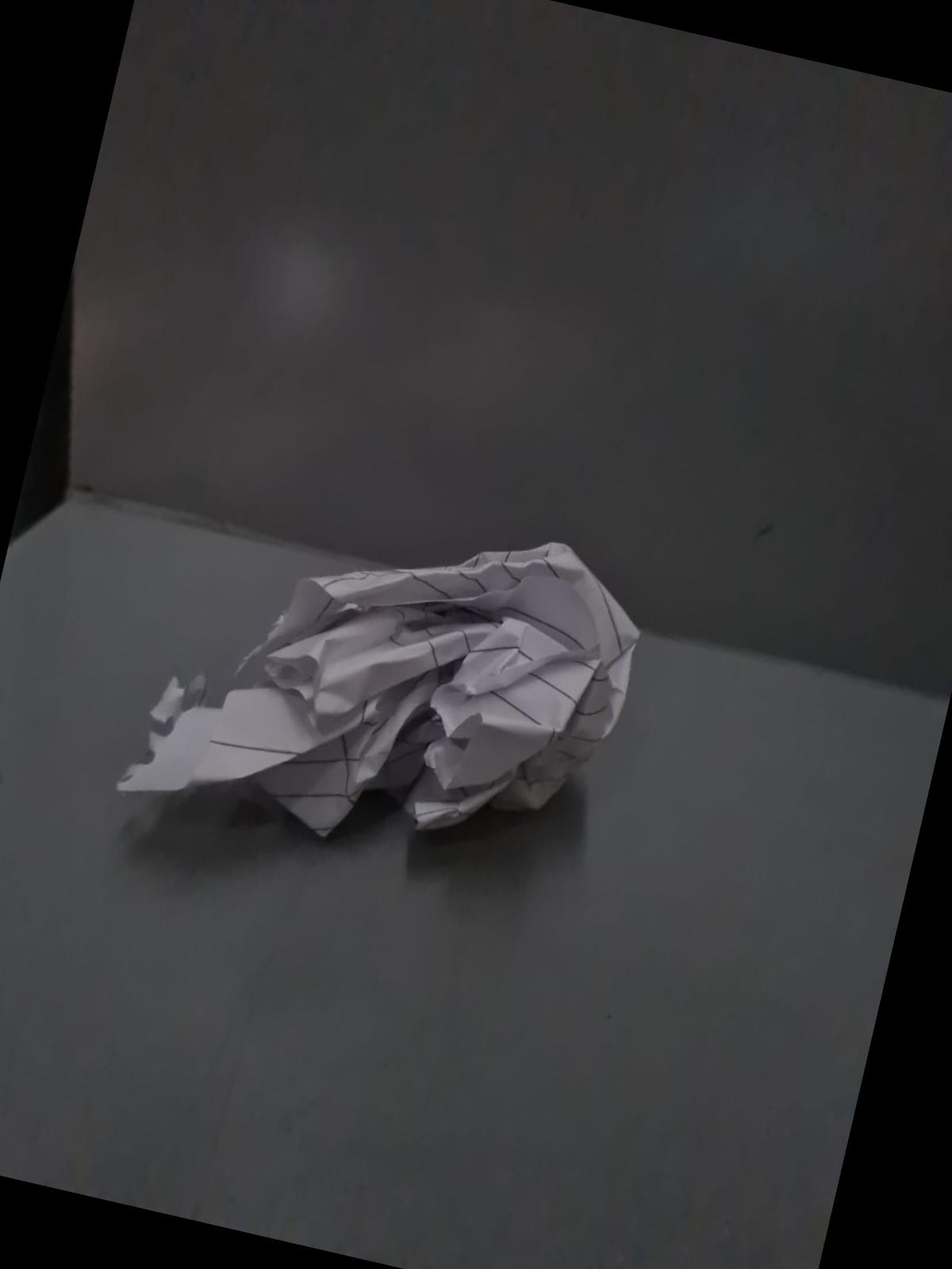Kertas: (92, 531, 646, 839)
